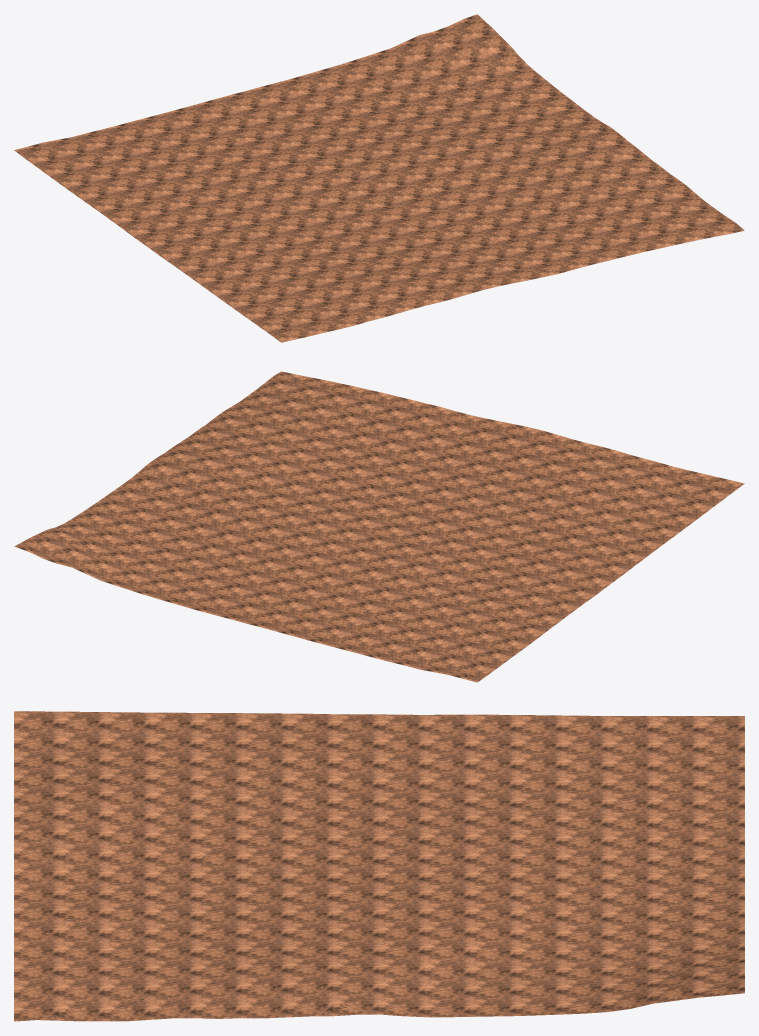
File: terrain_09_02.dae
The picture shows the model from 3 angles, top to bottom: view 1: azimuth 30°, elevation 25°; view 2: azimuth 150°, elevation 25°; view 3: azimuth 270°, elevation 25°; orthographic projection. The views are drawn at different scales.
Parts seen in each view (by area): view 1: terrain_09_02-node; view 2: terrain_09_02-node; view 3: terrain_09_02-node.
Part boxes in pixels (x1,y1,x2,y2): terrain_09_02-node: (14,14,744,342); terrain_09_02-node: (14,371,744,682); terrain_09_02-node: (14,711,744,1021).
Bounding box in the file's own units: 128 × 128 × 6.35.
1 material, 1 textured.
